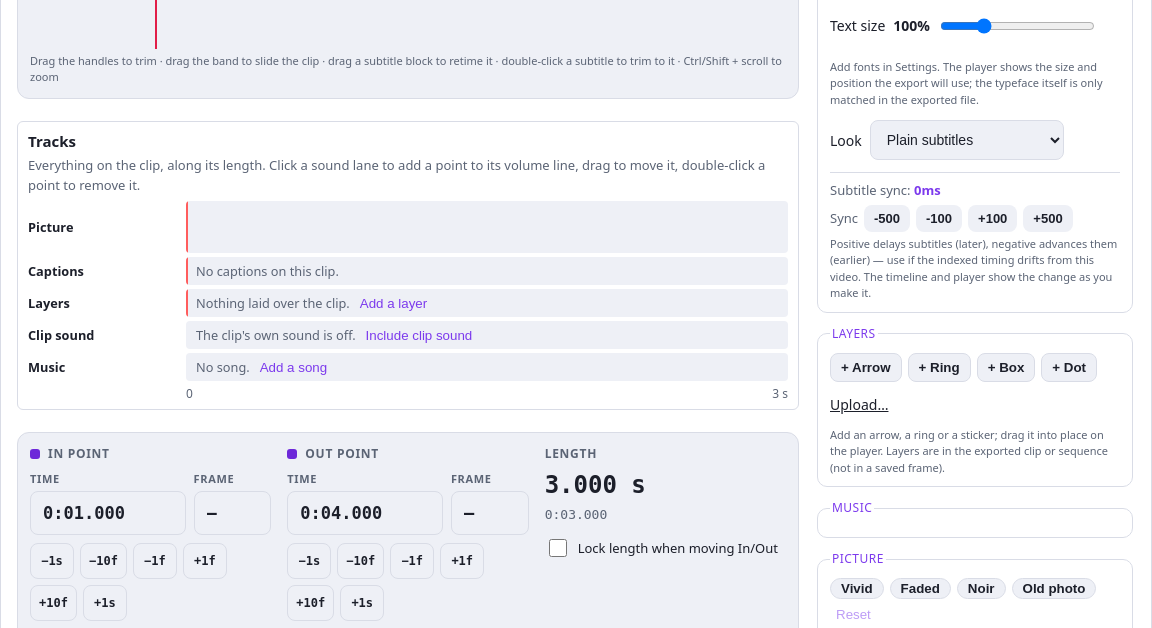
Scenario: the Tracks strip in the editor › turns the clip's sound on from its lane
This screenshot has width=1152, height=628.
(page scrolled)
Click the button "Include clip sound": click(419, 335) [366, 328, 472, 343]
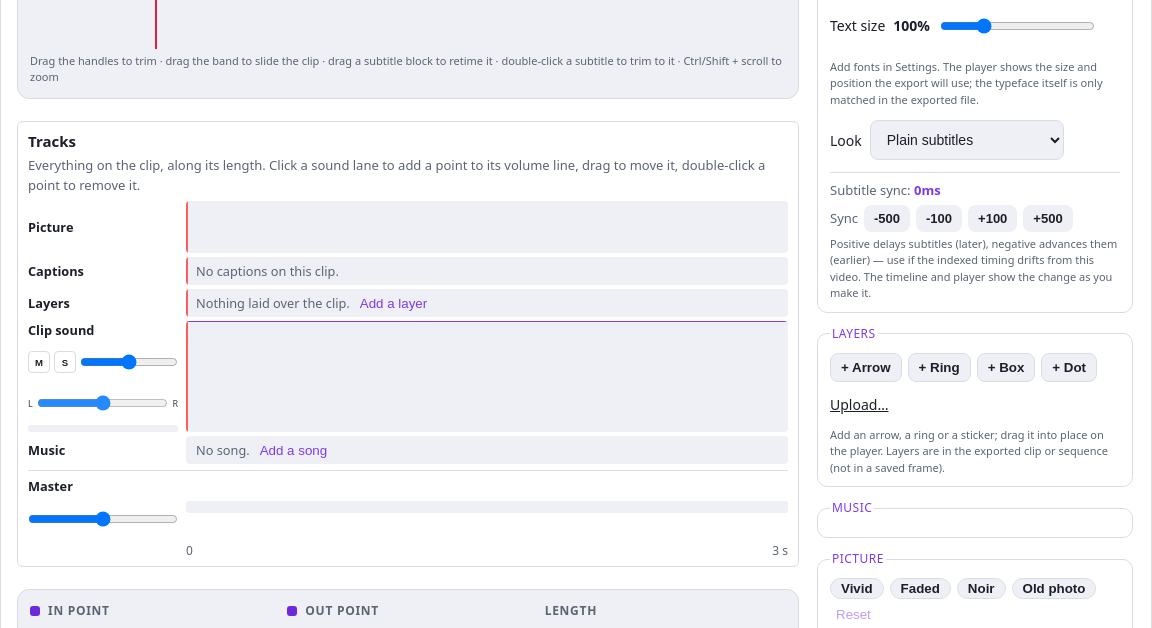
Result: the text "The clip's own sound is off." is gone
Result: the element named "Clip sound volume over the clip" is shown at [186, 321, 788, 432]
